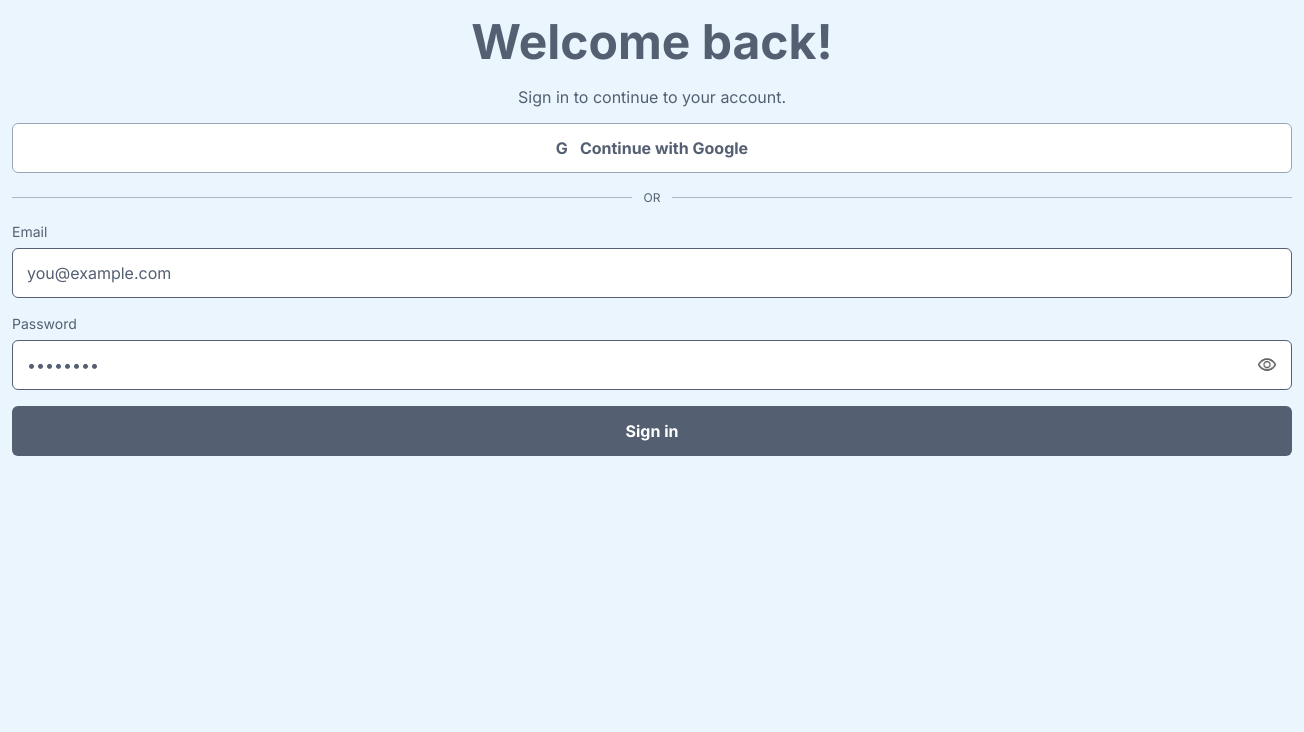
it: Edge Cases and Bugs › Handles Firebase wrong-password as inline invalid credentials
Type "test@example.com" into the field labelled "Email".
click(652, 273); type("test@example.com")  # box top-left (12, 248), bottom-right (1292, 298)
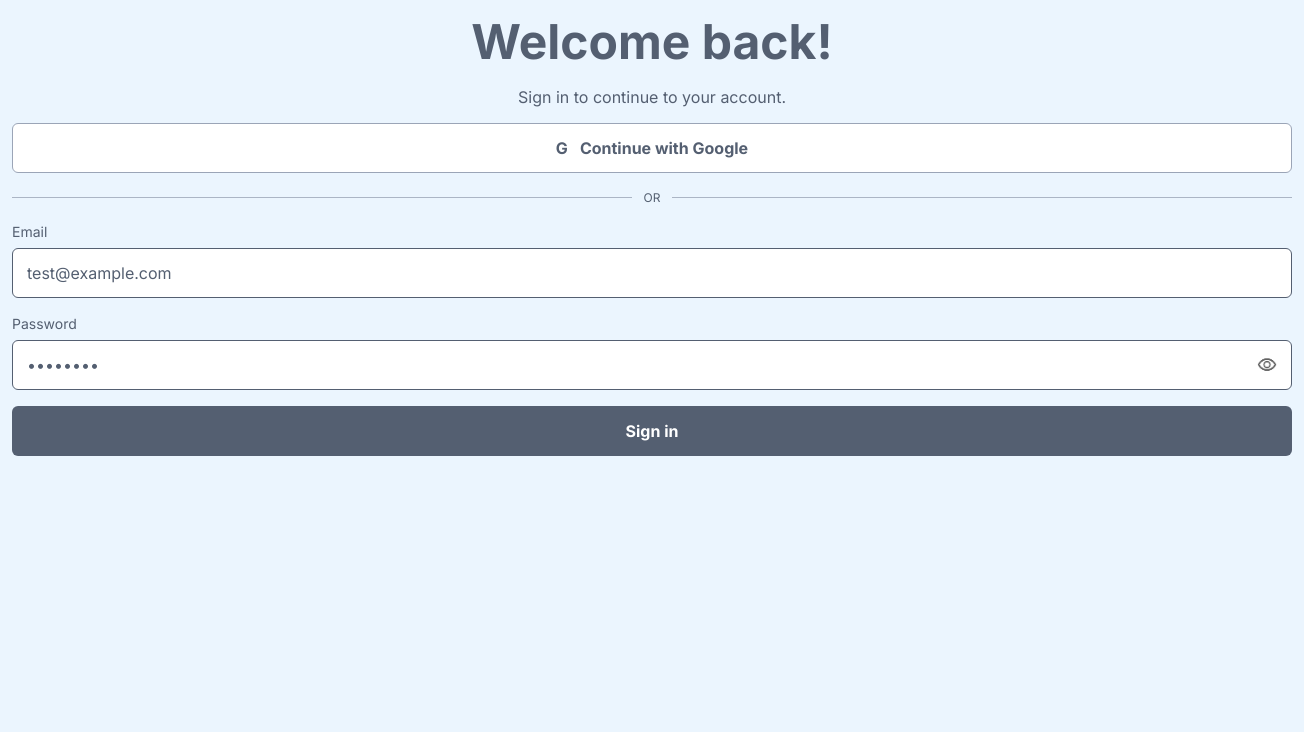
Type "Password123!" into the password field labelled "Password".
click(652, 365); type("Password123!")  # box top-left (12, 340), bottom-right (1292, 390)
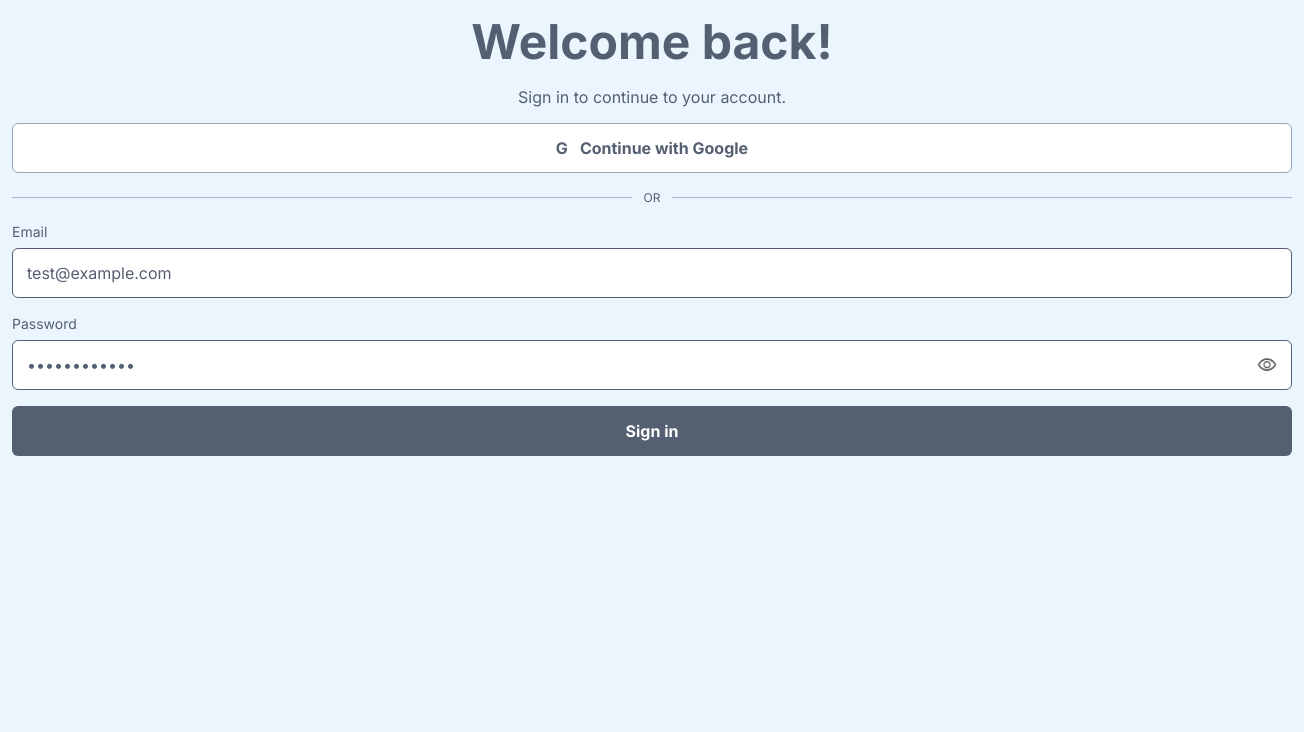
Click the button "Sign in".
click(652, 431)  # box top-left (12, 406), bottom-right (1292, 456)
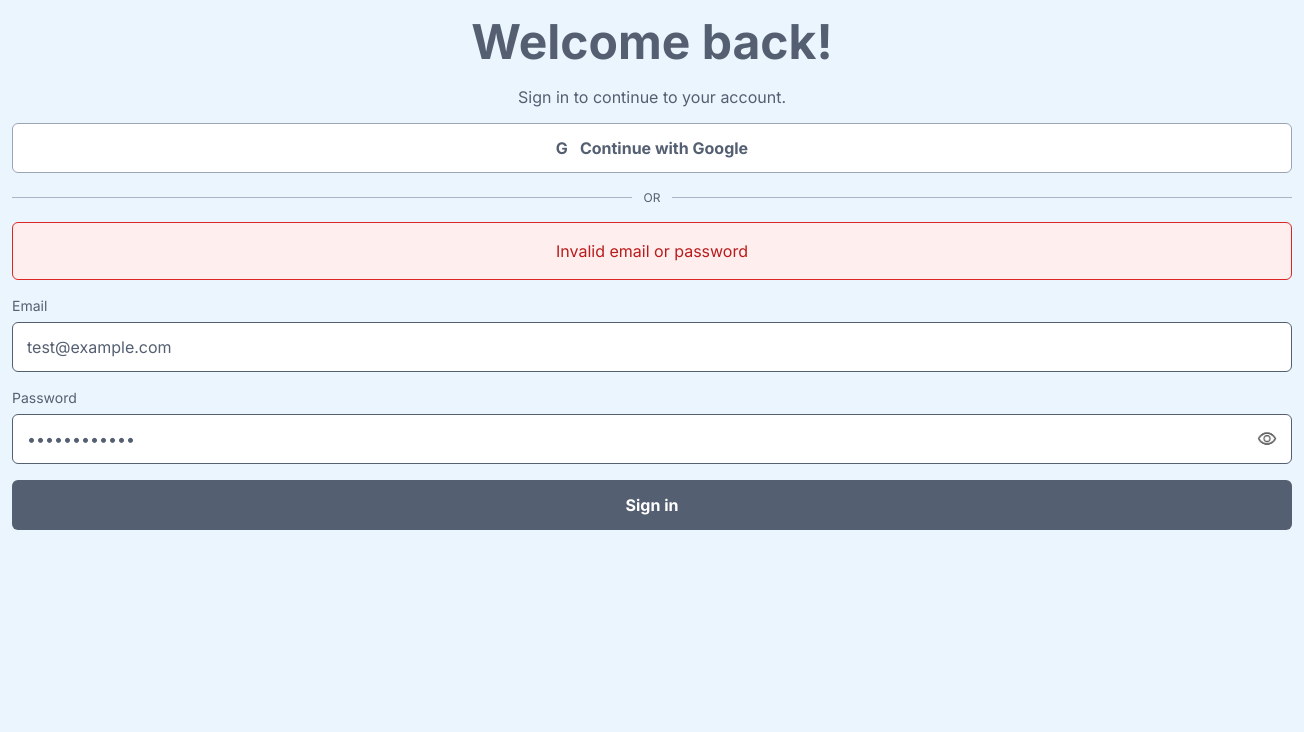
expect the message "Invalid email or password" is shown: met, box top-left (12, 222), bottom-right (1292, 280)
expect the text "Invalid email or password" is shown: met, box top-left (556, 239), bottom-right (748, 263)
